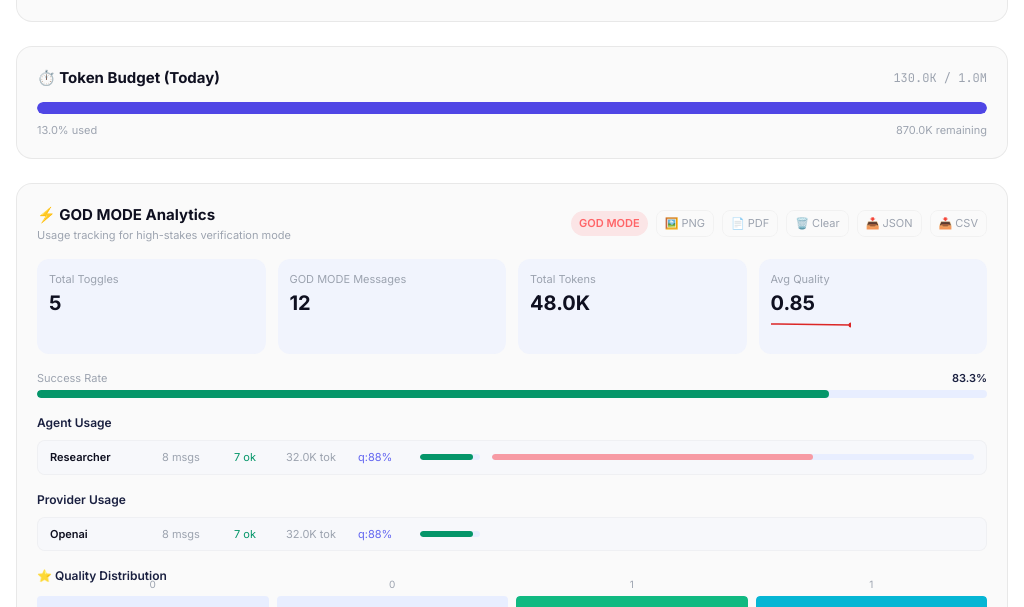
Test case: PerformanceDashboard › GOD MODE Chart Export › shows loading state while exporting
(page scrolled)
Click the button "🖼️ PNG" at x=685, y=224, box [656, 210, 714, 237]
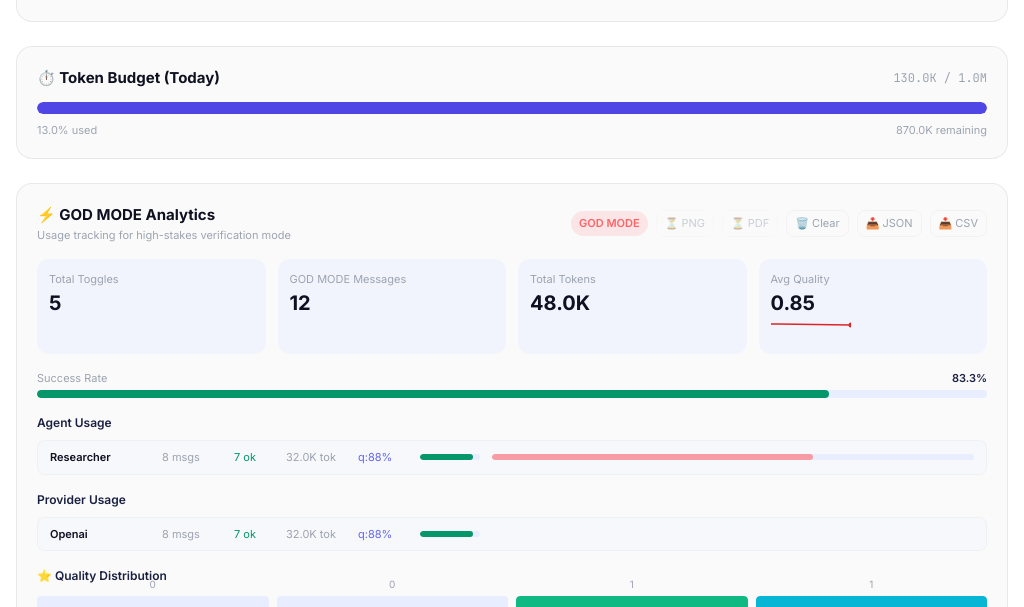
expect the button "🖼️ PNG" is disabled: met, box [656, 210, 714, 237]
